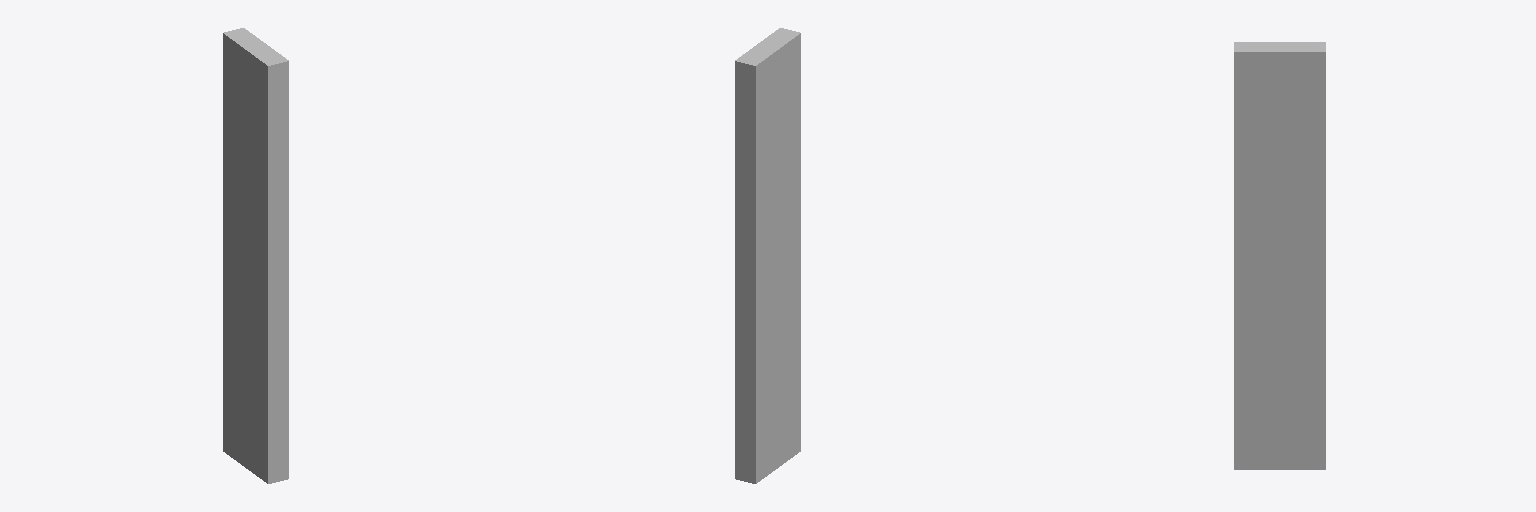
3 views of the same model, side by side, from view 1: azimuth 30°, elevation 25°; view 2: azimuth 150°, elevation 25°; view 3: azimuth 270°, elevation 25° (orthographic).
Visible parts, largest first — view 1: Body1; view 2: Body1; view 3: Body1.
Boxes of the visible parts, x1,y1,x2,y2 form: Body1: [223, 28, 288, 483]; Body1: [735, 28, 800, 483]; Body1: [1234, 42, 1325, 469].
Size of the model in its own units: 11.66 by 220 by 43.44.